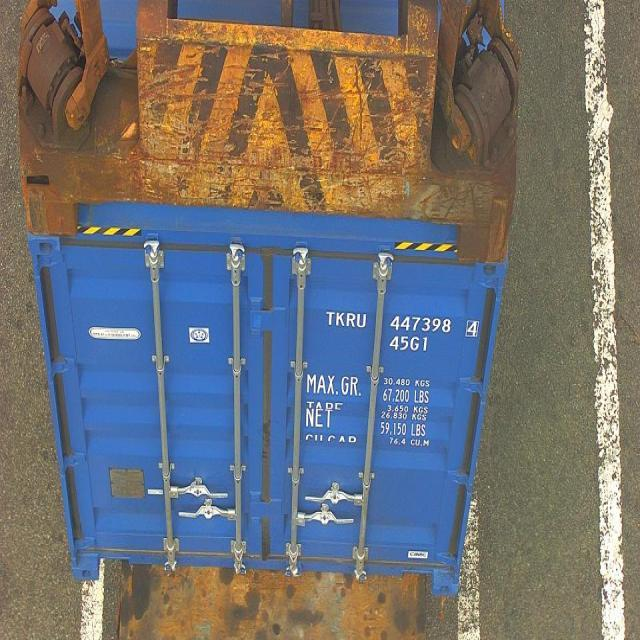ISO: (388, 335, 433, 356)
container_number: (333, 315, 479, 334)
